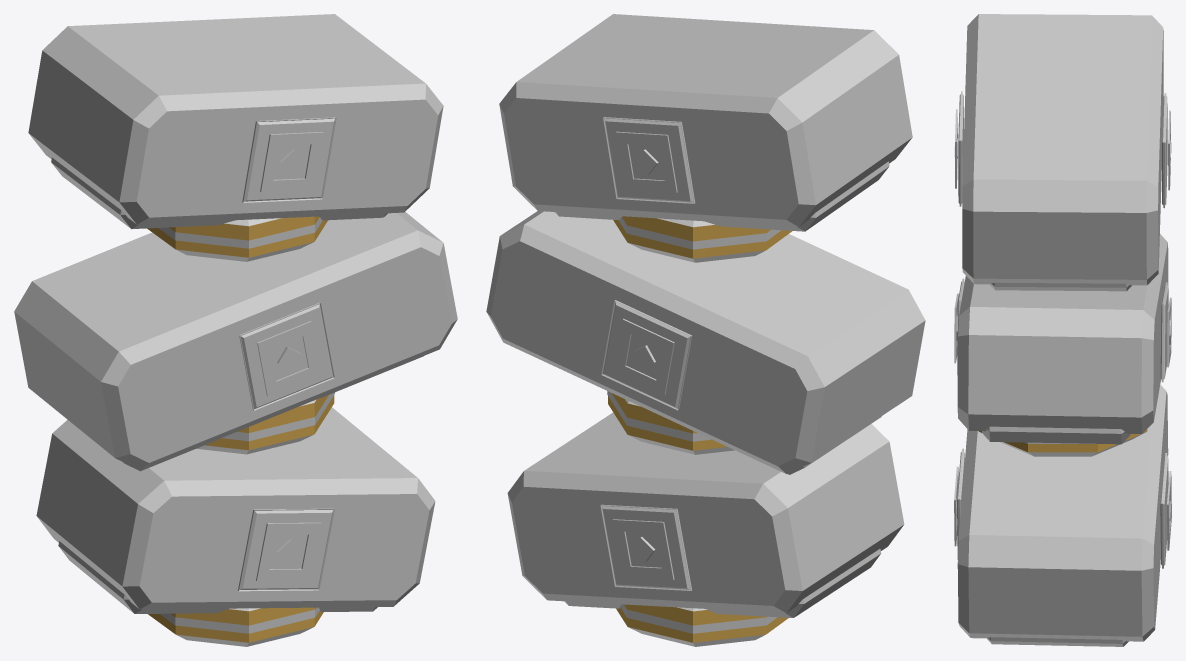
The model's file is wand_motion_23.obj.
3 renders of one model, left to right at view 1: azimuth 30°, elevation 25°; view 2: azimuth 150°, elevation 25°; view 3: azimuth 270°, elevation 25°, orthographic. The views are drawn at different scales.
Visible parts, largest first — view 1: chamfered_seal_tablet_1, chamfered_seal_tablet_2, chamfered_seal_tablet_0, inset_rune_socket_3, inset_rune_socket_1, inset_rune_socket_5, tablet_spacer_2, tablet_spacer_0, tablet_spacer_1, seal_shadow_base_2, seal_shadow_base_0, tablet_spacer_dark_seam_2 (+2 smaller); view 2: chamfered_seal_tablet_1, chamfered_seal_tablet_2, chamfered_seal_tablet_0, inset_rune_socket_4, inset_rune_socket_2, inset_rune_socket_0, tablet_spacer_2, tablet_spacer_0, tablet_spacer_1, seal_shadow_base_0, seal_shadow_base_2, tablet_spacer_dark_seam_2 (+2 smaller); view 3: chamfered_seal_tablet_2, chamfered_seal_tablet_0, chamfered_seal_tablet_1, seal_shadow_base_1, tablet_spacer_1, seal_shadow_base_2, seal_shadow_base_0, inset_rune_socket_0, inset_rune_socket_2, inset_rune_socket_4, inset_rune_socket_5, inset_rune_socket_1.
Part boxes in pixels (bbox=[...]): chamfered_seal_tablet_1: bbox=[14, 212, 457, 470]; chamfered_seal_tablet_2: bbox=[28, 14, 443, 224]; chamfered_seal_tablet_0: bbox=[36, 407, 435, 609]; inset_rune_socket_3: bbox=[239, 302, 334, 410]; inset_rune_socket_1: bbox=[238, 508, 334, 591]; inset_rune_socket_5: bbox=[242, 117, 336, 202]; tablet_spacer_2: bbox=[147, 216, 327, 261]; tablet_spacer_0: bbox=[148, 607, 323, 646]; tablet_spacer_1: bbox=[196, 395, 334, 454]; seal_shadow_base_2: bbox=[51, 157, 387, 229]; seal_shadow_base_0: bbox=[58, 541, 377, 613]; tablet_spacer_dark_seam_2: bbox=[159, 217, 322, 248]; chamfered_seal_tablet_1: bbox=[486, 211, 925, 474]; chamfered_seal_tablet_2: bbox=[499, 14, 912, 226]; chamfered_seal_tablet_0: bbox=[507, 412, 904, 613]; inset_rune_socket_4: bbox=[603, 117, 695, 203]; inset_rune_socket_2: bbox=[601, 300, 691, 410]; inset_rune_socket_0: bbox=[600, 504, 691, 590]; tablet_spacer_2: bbox=[613, 216, 792, 262]; tablet_spacer_0: bbox=[616, 604, 788, 646]; tablet_spacer_1: bbox=[608, 393, 734, 454]; seal_shadow_base_0: bbox=[564, 549, 881, 617]; seal_shadow_base_2: bbox=[554, 161, 889, 231]; tablet_spacer_dark_seam_2: bbox=[619, 217, 780, 249]; chamfered_seal_tablet_2: bbox=[962, 14, 1163, 285]; chamfered_seal_tablet_0: bbox=[957, 385, 1168, 641]; chamfered_seal_tablet_1: bbox=[957, 234, 1168, 433]; seal_shadow_base_1: bbox=[982, 426, 1130, 444]; tablet_spacer_1: bbox=[978, 429, 1147, 456]; seal_shadow_base_2: bbox=[990, 282, 1131, 291]; seal_shadow_base_0: bbox=[987, 637, 1128, 646]; inset_rune_socket_0: bbox=[1160, 453, 1168, 568]; inset_rune_socket_2: bbox=[1160, 282, 1168, 382]; inset_rune_socket_4: bbox=[1162, 93, 1167, 208]; inset_rune_socket_5: bbox=[958, 91, 963, 206]; inset_rune_socket_1: bbox=[957, 448, 964, 559].
Size of the model in its own units: 0.1991 by 0.3111 by 0.1147.
